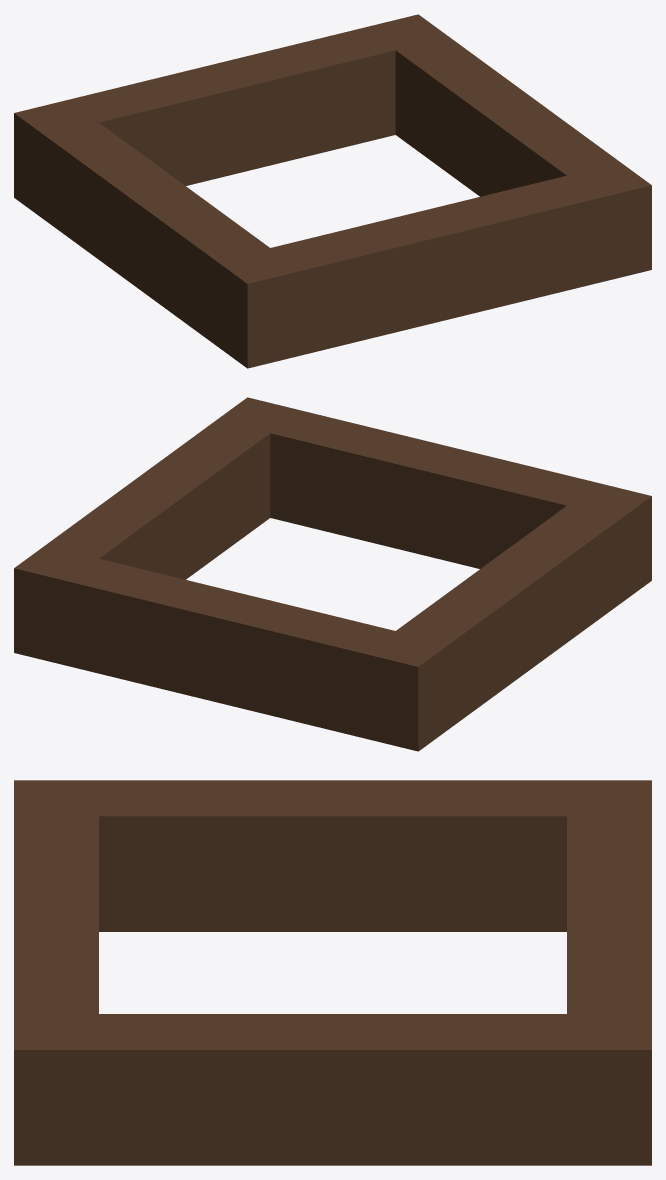
The model's file is UB_BURN_PIT_LODs.fbx.
3 views of the same model, one above another, from view 1: azimuth 30°, elevation 25°; view 2: azimuth 150°, elevation 25°; view 3: azimuth 270°, elevation 25° (orthographic). The views are drawn at different scales.
Parts seen in each view (by area): view 1: UB_BURN_PIT_LOD0; view 2: UB_BURN_PIT_LOD0; view 3: UB_BURN_PIT_LOD0.
Part boxes in pixels (left/top/right/bottom): UB_BURN_PIT_LOD0: left=14, top=14, right=651, bottom=368; UB_BURN_PIT_LOD0: left=14, top=397, right=651, bottom=751; UB_BURN_PIT_LOD0: left=14, top=780, right=651, bottom=1165.
Size of what is drawn, in the model's own units: 300 by 60 by 300.
